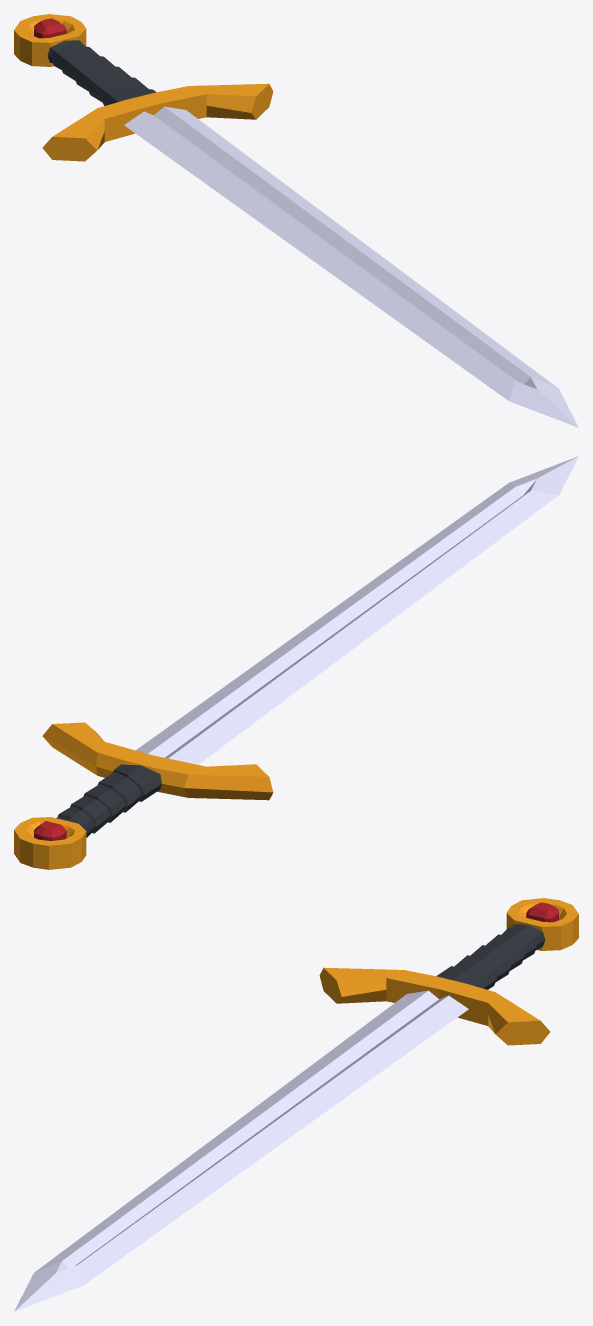
Rendered from Sword2.fbx.
The picture shows the model from 3 angles, top to bottom: view 1: azimuth 30°, elevation 25°; view 2: azimuth 150°, elevation 25°; view 3: azimuth 330°, elevation 25°; orthographic projection.
Visible parts, largest first — view 1: steelsword; view 2: steelsword; view 3: steelsword.
Boxes of the visible parts, bbox=[...] form: steelsword: bbox=[14, 14, 578, 427]; steelsword: bbox=[14, 456, 578, 869]; steelsword: bbox=[14, 898, 578, 1311].
Bounding box in the file's own units: 28.09 × 4.21 × 115.
